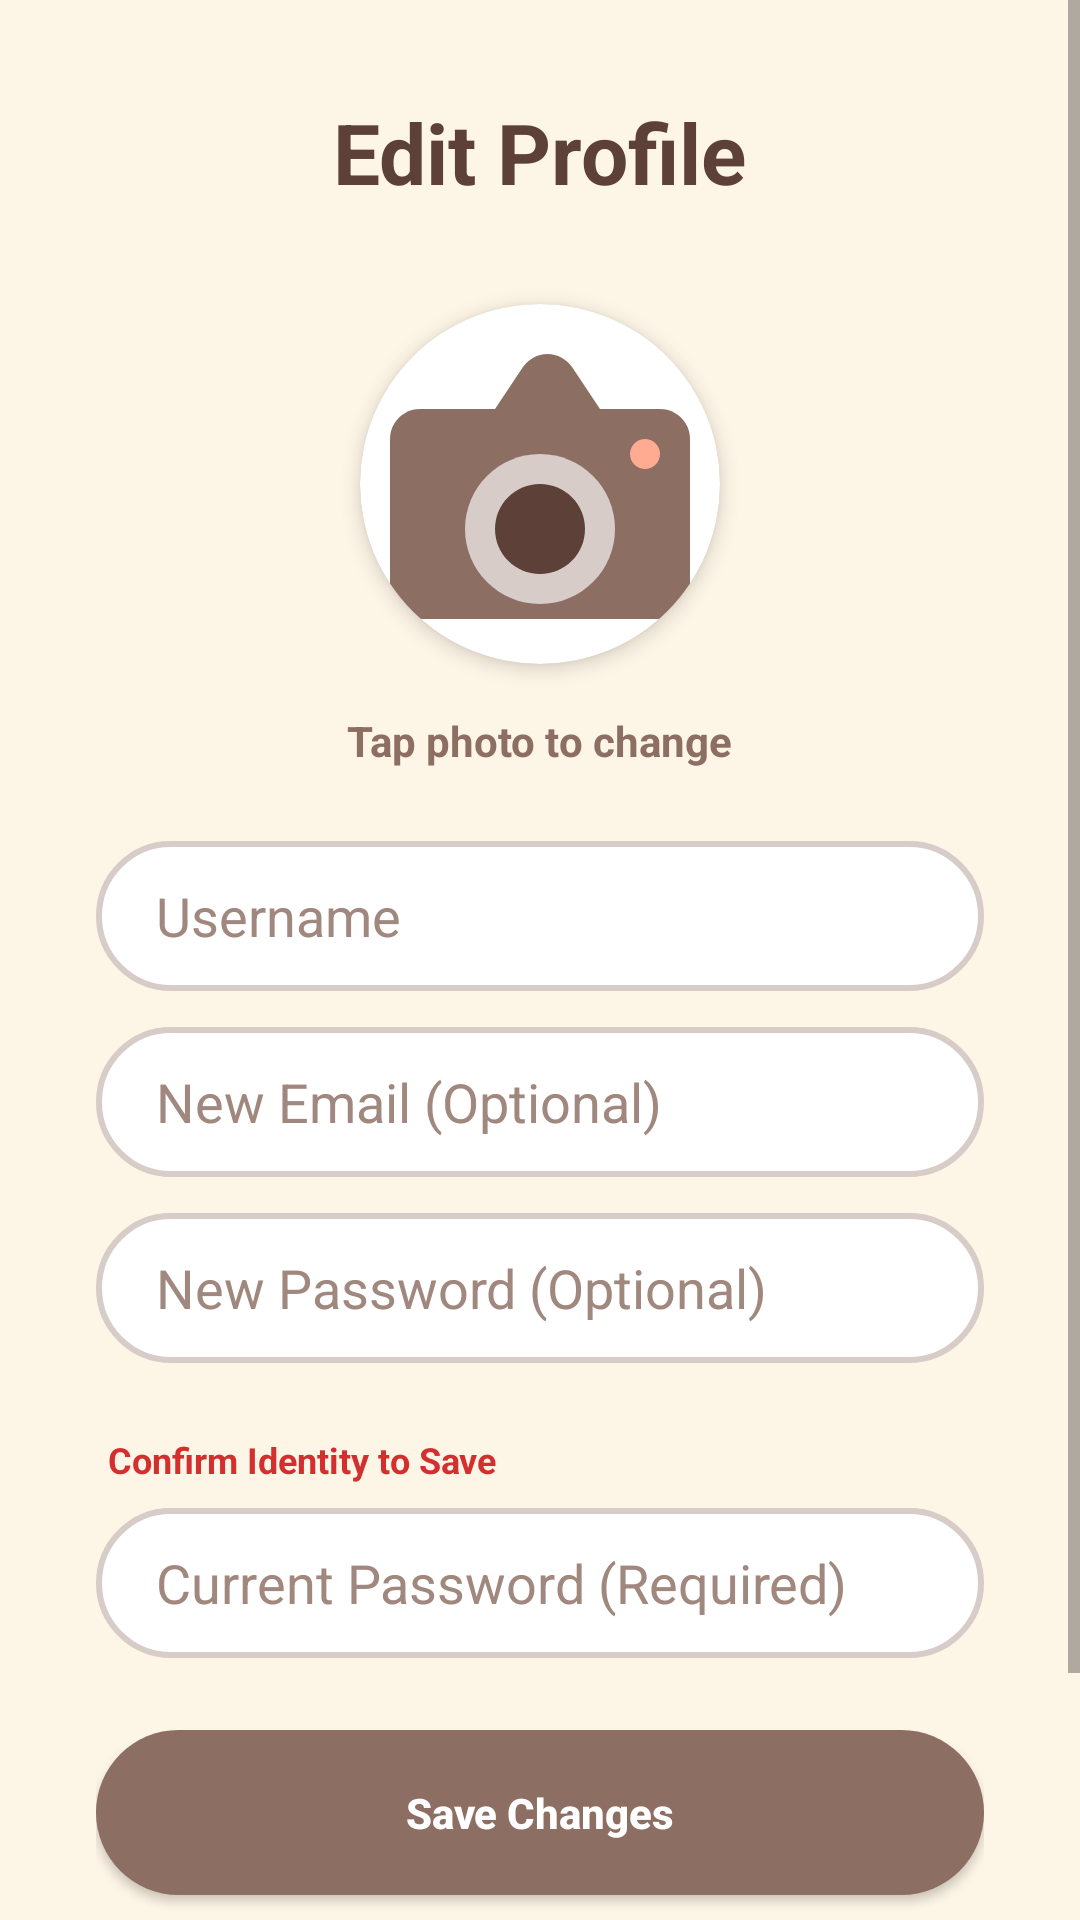

Named icons in this screenshot (1080px x 1920px) and their bounding boxes, (x1, y1, x2, y2):
cute camera: (361, 304, 719, 664)
